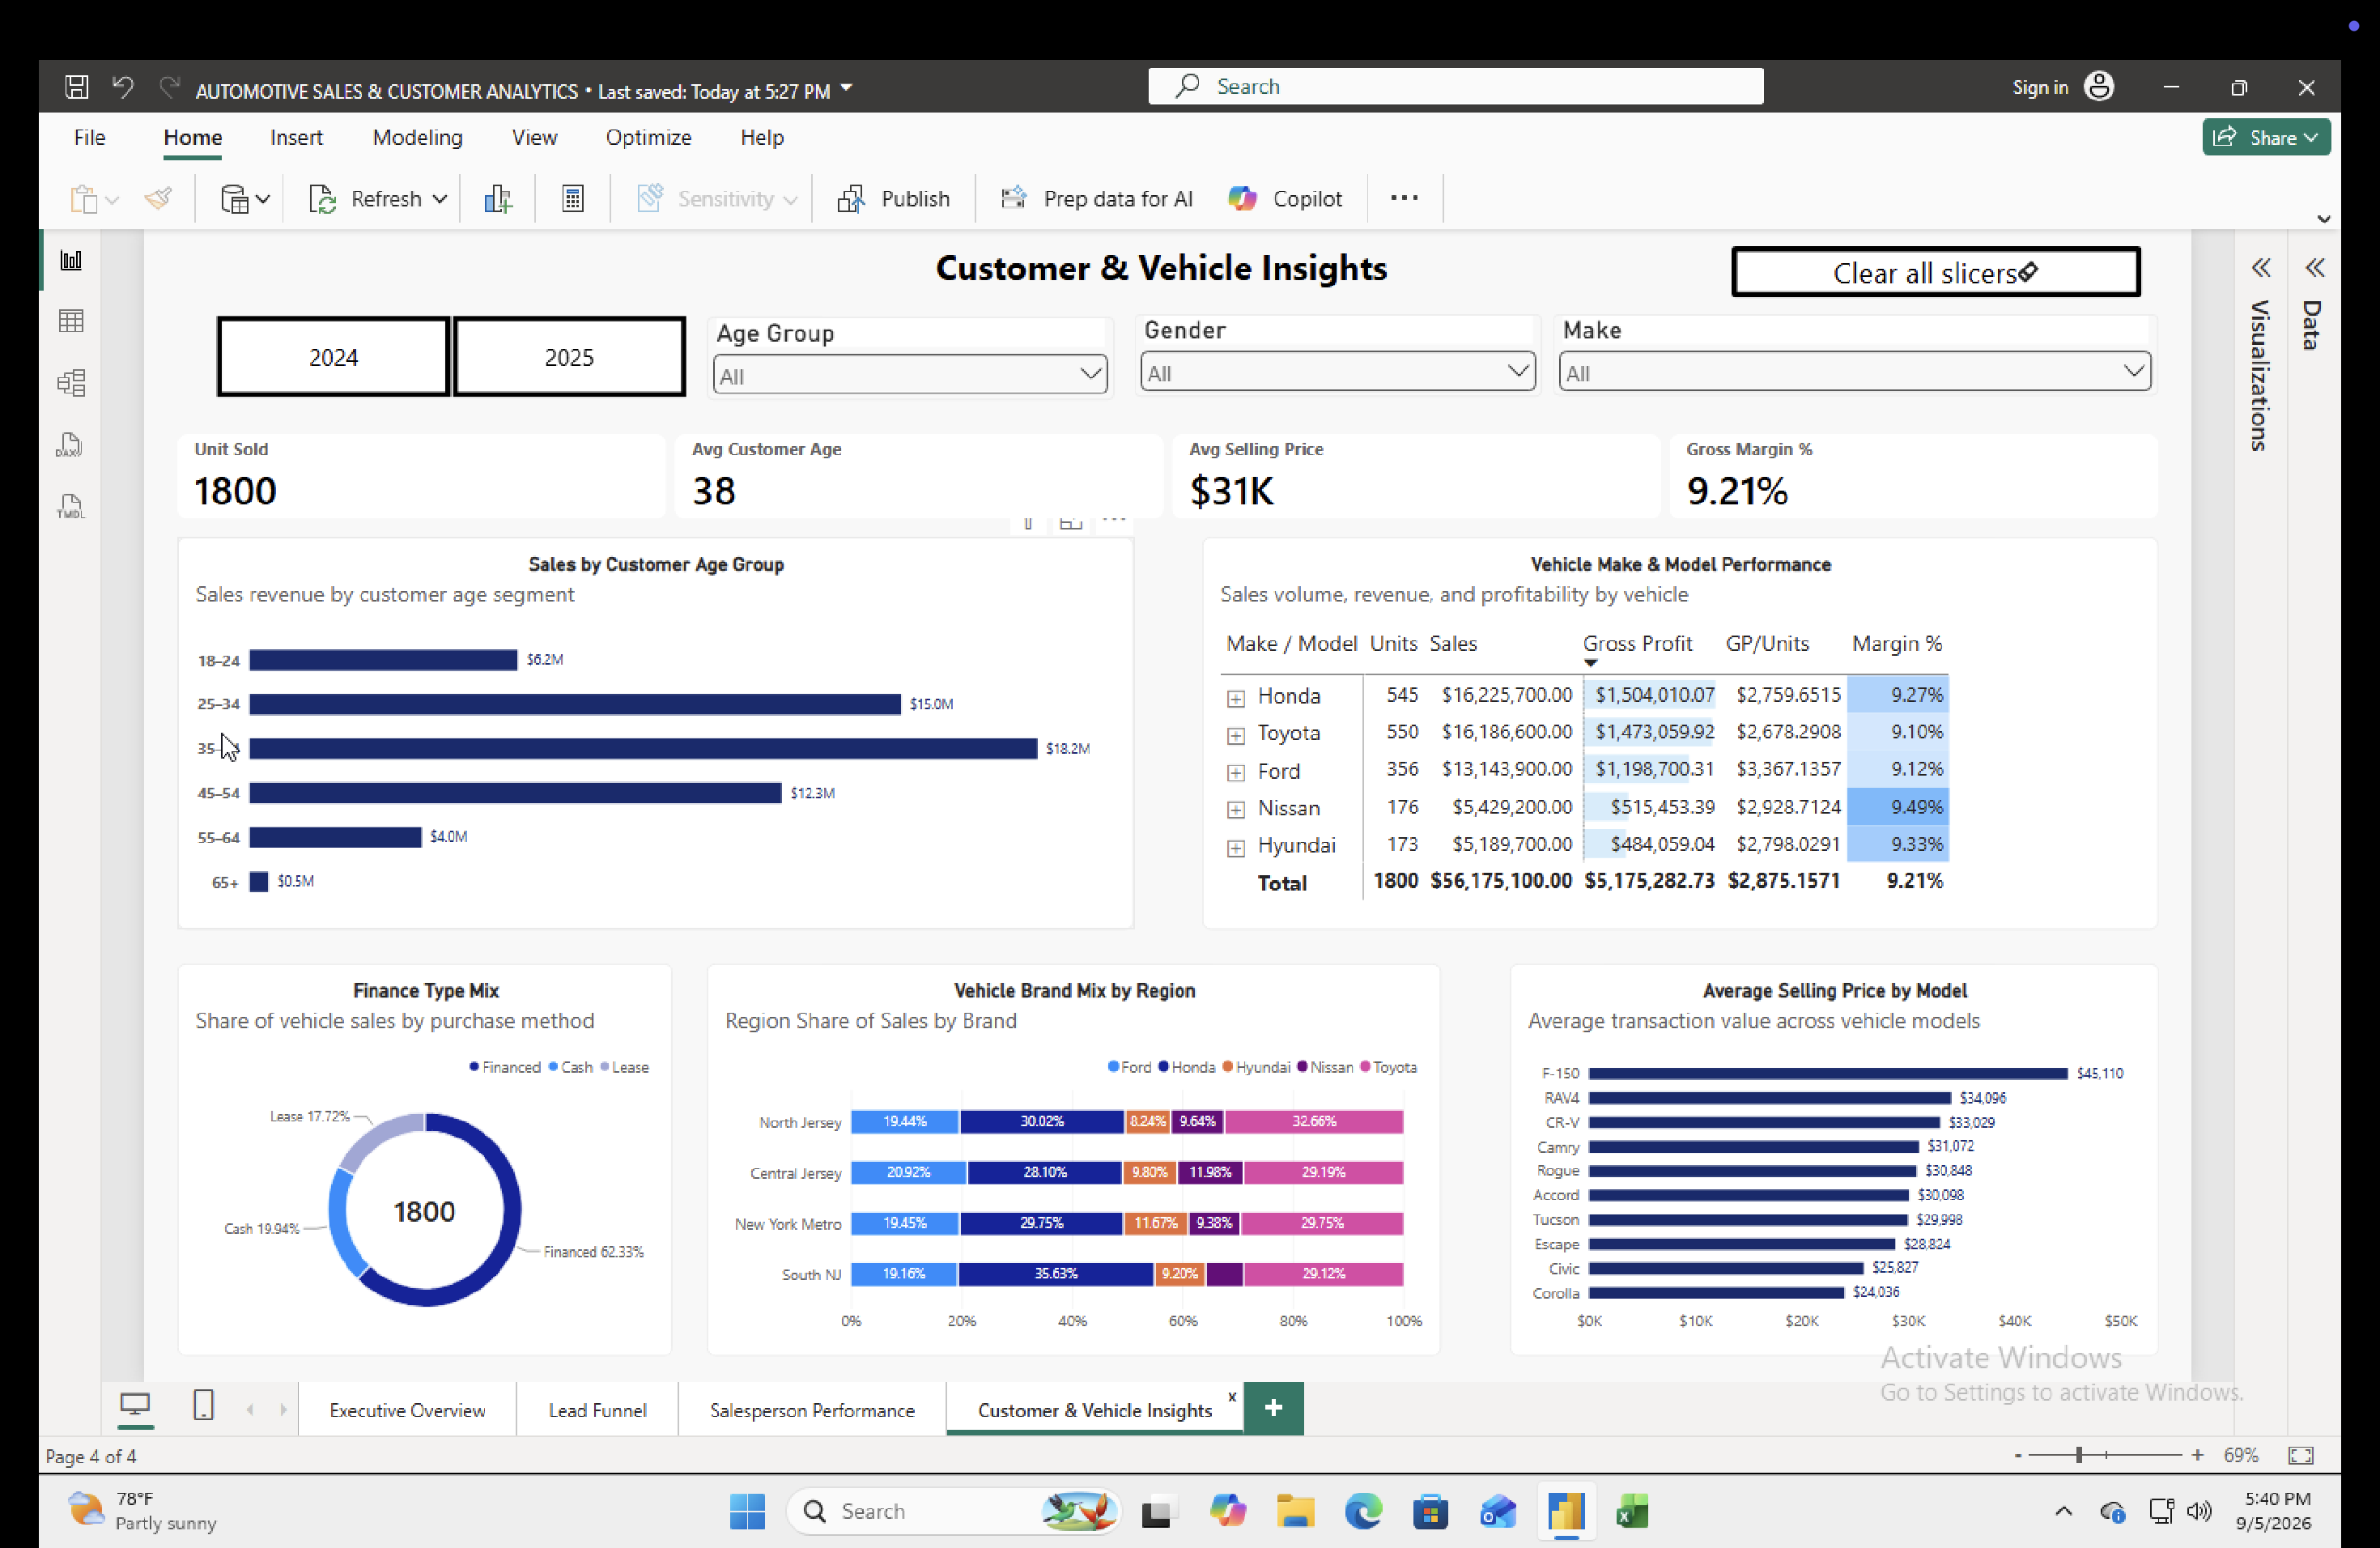

This screenshot's page, from the dashboard's own definition file:
{"tool":"powerbi","page":{"name":"Customer & Vehicle Insights","canvas":[1920,1080],"ordinal":3},"visuals":[{"type":"slicer","fields":{"Values":["FactSales.Age Group"]},"box":[528,82.3,382.1,77.7],"z":0,"group":"g1"},{"type":"barChart","title":"Sales by Customer Age Group","fields":{"Category":["FactSales.Age Group"],"Y":["FactSales.Total Sales"]},"box":[32,288,896,368],"z":0},{"type":"slicer","fields":{"Values":["FactSales.Gender"]},"box":[928.6,80,382.1,77.7],"z":1000,"group":"g1"},{"type":"donutChart","title":"Finance Type Mix","fields":{"Category":["FactSales.FinanceType"],"Y":["FactSales.Unit Sold"]},"box":[32,688,464,368],"z":1000},{"type":"slicer","fields":{"Values":["FactSales.Make"]},"box":[1321.3,80,566.7,77.1],"z":2000,"group":"g1"},{"type":"pivotTable","title":"Vehicle Make & Model Performance","fields":{"Rows":["FactSales.Make","FactSales.Model"],"Values":["FactSales.Unit Sold","FactSales.Total Sales","FactSales.Total Gross Profit","FactSales.Gross Profit Per Unit","FactSales.Gross Margin %"]},"box":[992,288,896,368],"z":2000},{"type":"hundredPercentStackedBarChart","title":"Vehicle Brand Mix by Region","fields":{"Category":["FactSales.Region"],"Y":["FactSales.Unit Sold"],"Series":["FactSales.Make"]},"box":[528,688,688,368],"z":3000},{"type":"textbox","box":[743.2,12.6,433.7,52.2],"z":4000},{"type":"slicer","fields":{"Values":["DimDate.Year"]},"box":[48,80,480,80],"z":5000},{"type":"actionButton","box":[1488,16,384,48],"z":6000},{"type":"group","id":"g1","title":"Group 2","box":[528,80,1360,80],"z":7000},{"type":"cardVisual","fields":{"Data":["FactSales.Unit Sold","Avg(FactSales.CustomerAge)","FactSales.Average Selling Price","FactSales.Gross Margin %"]},"box":[32,192,1856,80],"z":8000},{"type":"barChart","title":"Average Selling Price by Model","fields":{"Category":["FactSales.Model"],"Y":["FactSales.Average Selling Price"]},"box":[1280,688,608,368],"z":9000}]}

Visuals, with their boxes on the page's 1920x1080 design canvas (x1, y1, x2, y2). These are canvas units, not pixel positions in the 2380x1548 screenshot, which may show the page scaled, cropped or inside an application window:
slicer - FactSales.Age Group: <box>528,82,910,160</box>
"Sales by Customer Age Group" barChart: <box>32,288,928,656</box>
slicer - FactSales.Gender: <box>929,80,1311,158</box>
"Finance Type Mix" donutChart: <box>32,688,496,1056</box>
slicer - FactSales.Make: <box>1321,80,1888,157</box>
"Vehicle Make & Model Performance" pivotTable: <box>992,288,1888,656</box>
"Vehicle Brand Mix by Region" hundredPercentStackedBarChart: <box>528,688,1216,1056</box>
textbox: <box>743,13,1177,65</box>
slicer - DimDate.Year: <box>48,80,528,160</box>
actionButton: <box>1488,16,1872,64</box>
"Group 2" group: <box>528,80,1888,160</box>
cardVisual - FactSales.Unit Sold x Avg(FactSales.CustomerAge): <box>32,192,1888,272</box>
"Average Selling Price by Model" barChart: <box>1280,688,1888,1056</box>
